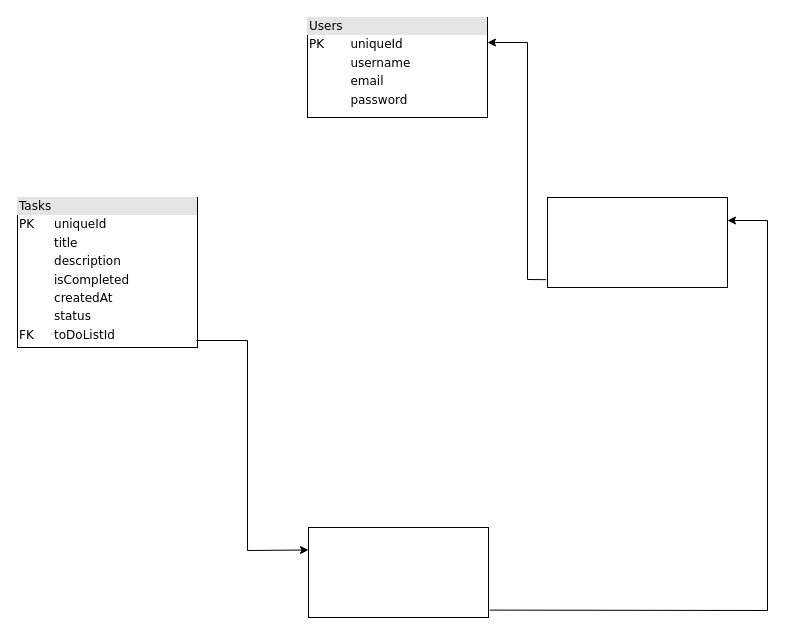
Image size: 793x636. Some labels were removed from this diagram. The centre of each missing label's shape, as x and y in pixels:
"Folders PK uniqueId folderName createdAt FK1 userId" belongs at [637,242].
"ToDoList PK uniqueId name createdAt FK folderId" belongs at [398,572].
